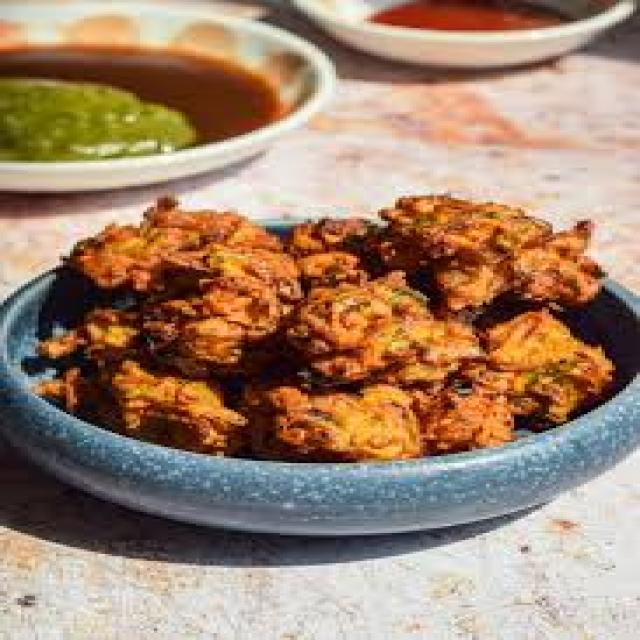BAJI: (426, 317, 608, 454), (398, 191, 578, 321), (143, 240, 317, 365), (62, 198, 251, 297), (301, 275, 449, 390), (248, 379, 416, 456), (87, 363, 228, 451)
